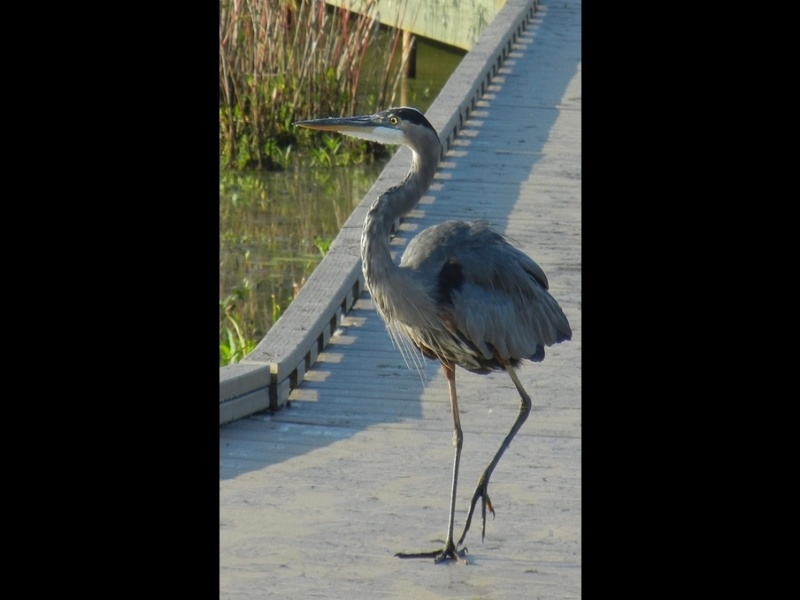heron: (287, 108, 572, 564)
